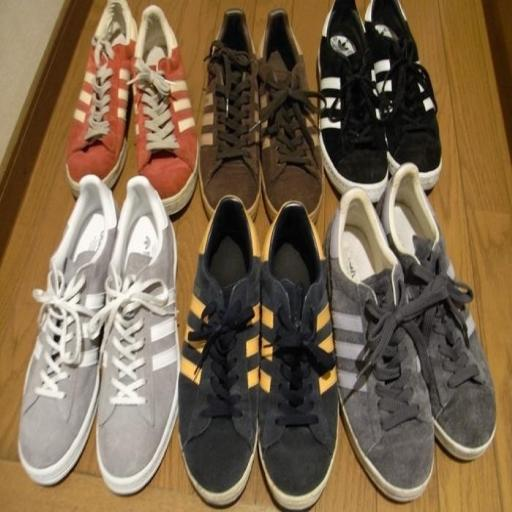shoe: (381, 164, 496, 460), (326, 188, 434, 502), (18, 175, 117, 485), (89, 176, 179, 495), (178, 196, 260, 506), (258, 202, 339, 510), (365, 0, 442, 189), (318, 0, 388, 202), (66, 0, 137, 196), (132, 5, 198, 214), (258, 9, 323, 221), (199, 9, 260, 218)
